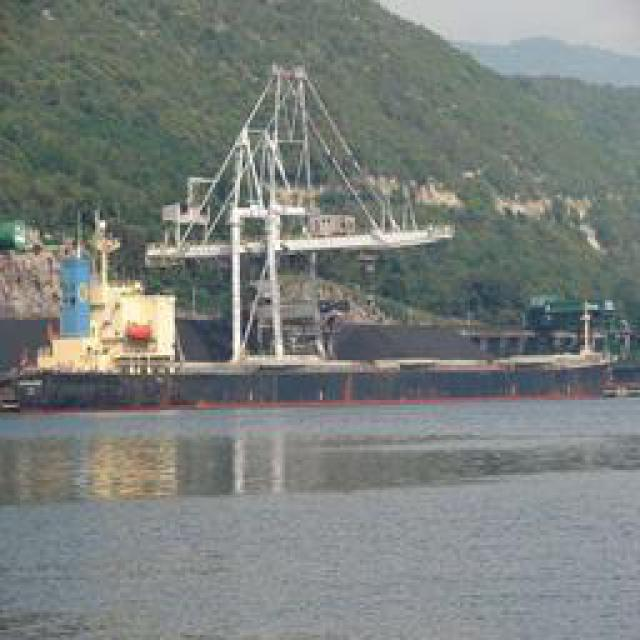Ship: (36, 59, 574, 432)
